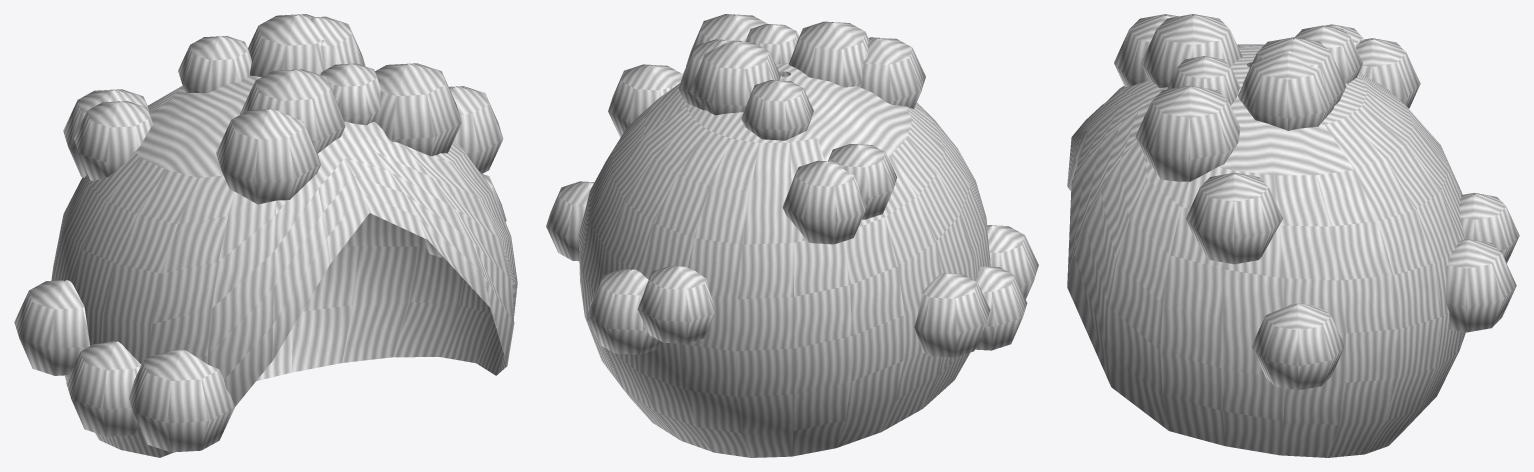
Rendered from hair_afro.glb.
The picture shows the model from 3 angles, left to right: view 1: azimuth 30°, elevation 25°; view 2: azimuth 150°, elevation 25°; view 3: azimuth 270°, elevation 25°; orthographic projection. The views are drawn at different scales.
Parts seen in each view (by area): view 1: hair_afro; view 2: hair_afro; view 3: hair_afro.
Boxes of the visible parts, x1,y1,x2,y2 form: hair_afro: [14, 14, 517, 457]; hair_afro: [546, 14, 1038, 457]; hair_afro: [1067, 14, 1519, 457].
Bounding box in the file's own units: 0.4909 × 0.398 × 0.4141.
1 material, 1 textured.
